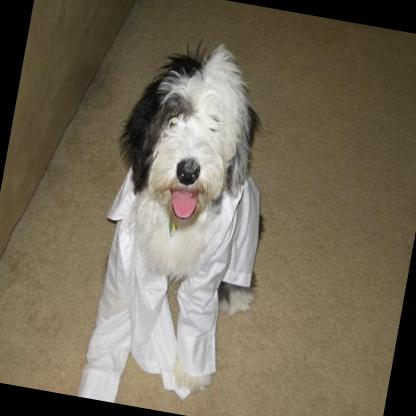Old_English_sheepdog: (73, 35, 293, 416)
